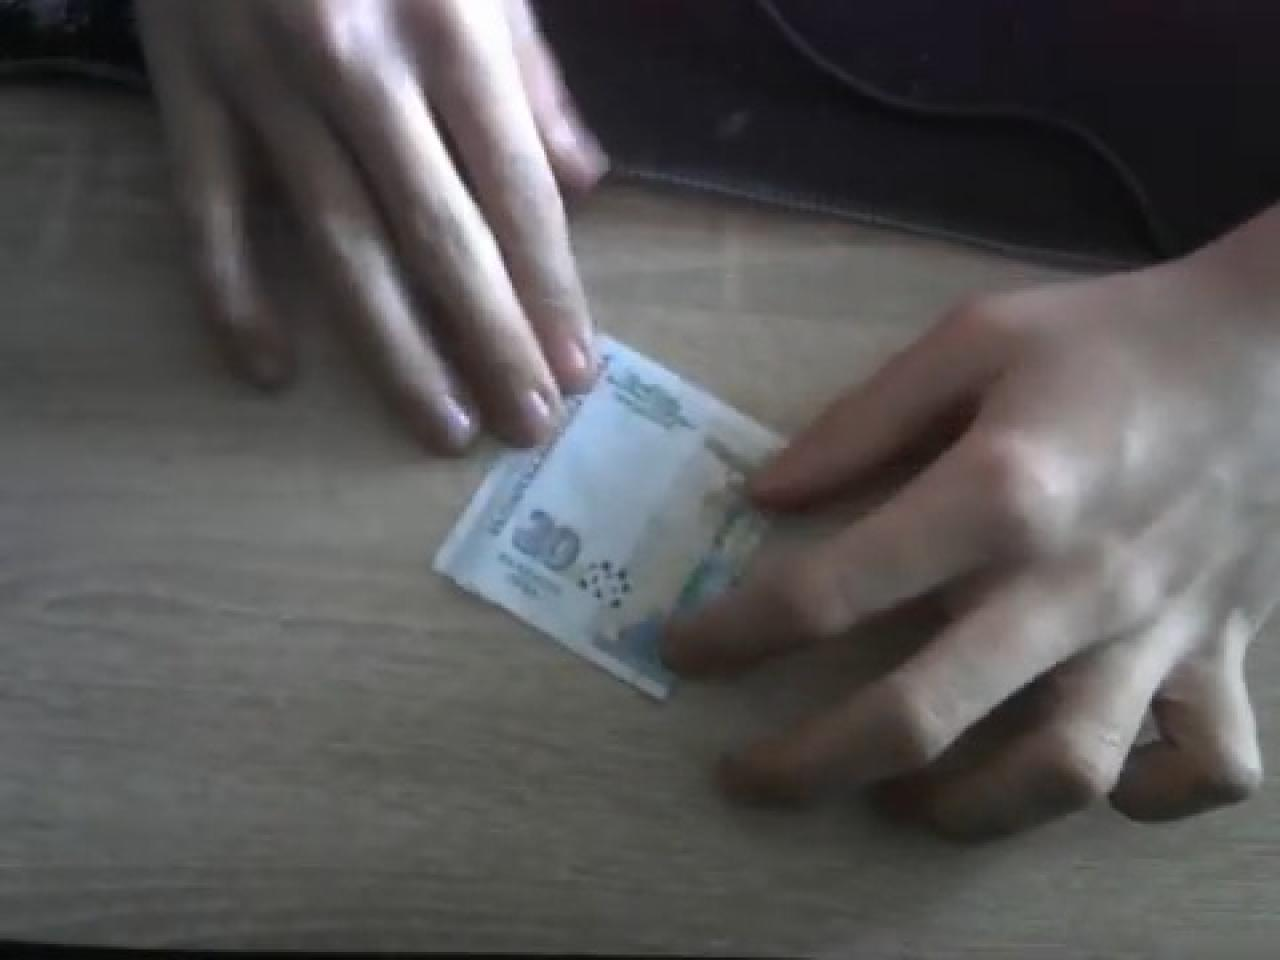20leva: (432, 339, 784, 704)
